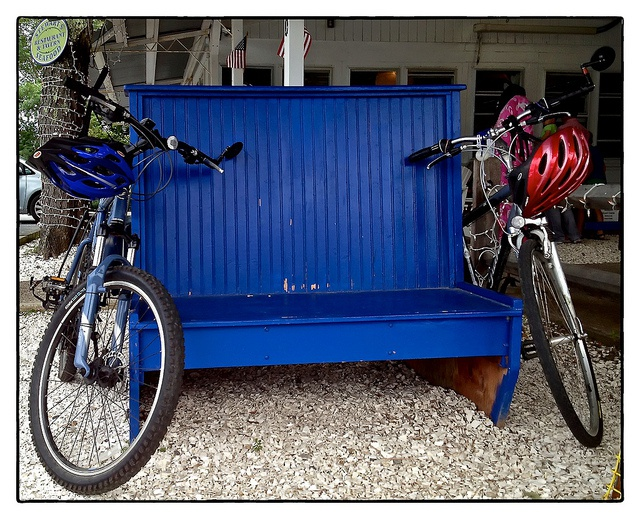non-vehicle: (27, 62, 244, 493), (408, 78, 602, 445)
